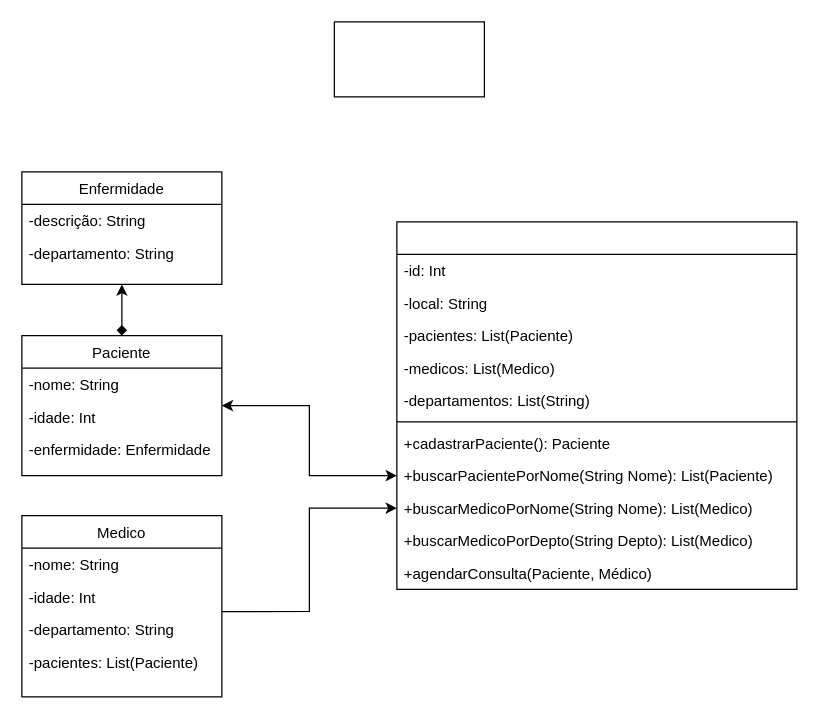
Some shapes in this 819 by 719 pixel diagram are drawn without their labels. Each missing label, with the box of its shape:
HOSPITAL: (333, 21, 484, 97)
Recepção: (396, 221, 797, 589)
